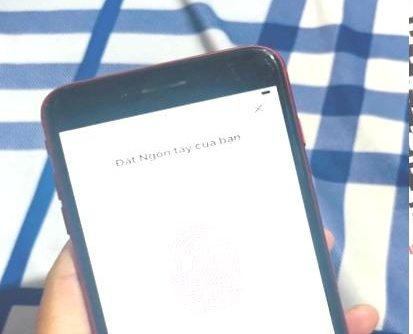scratch: (244, 47, 280, 78)
